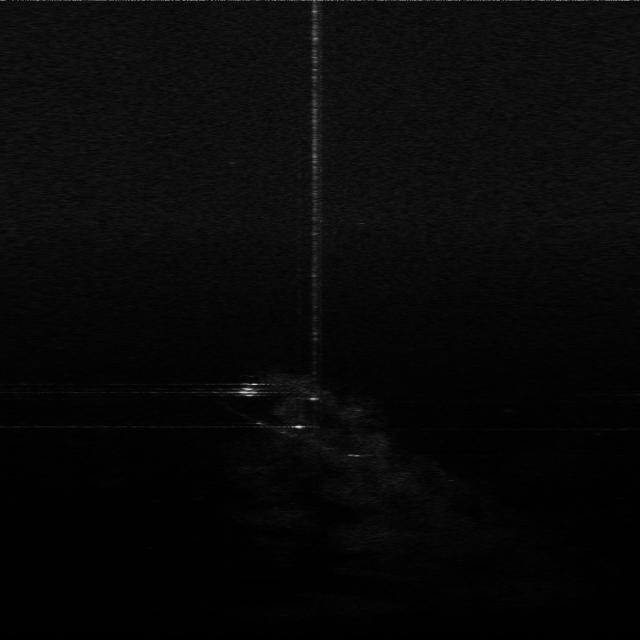rov: (236, 379, 266, 400)
